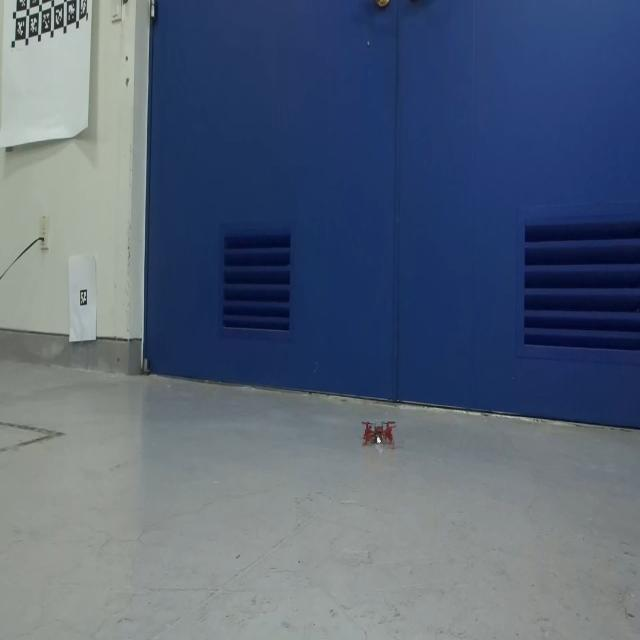crazyflie: (362, 419, 398, 452)
